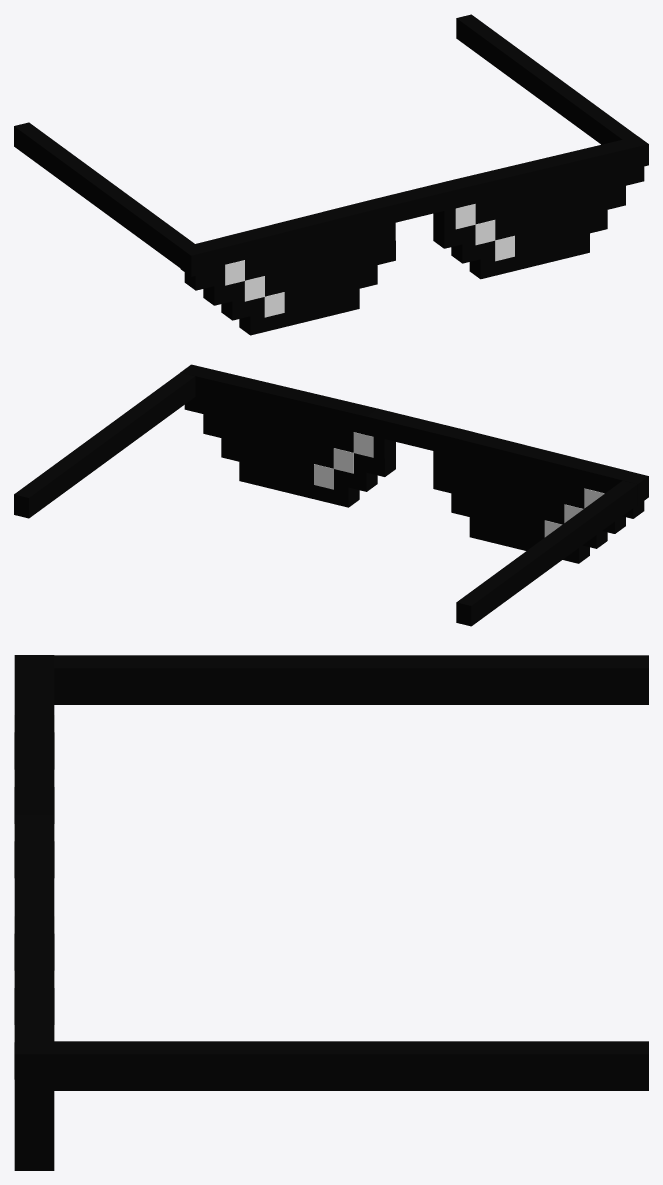
The model's file is thug_life_glasses_big.glb.
3 views of the same model, one above another, from view 1: azimuth 30°, elevation 25°; view 2: azimuth 150°, elevation 25°; view 3: azimuth 270°, elevation 25° (orthographic). The views are drawn at different scales.
Visible parts, largest first — view 1: ThugGlasses; view 2: ThugGlasses; view 3: ThugGlasses.
Boxes of the visible parts, <box> form: ThugGlasses: <box>14,14,648,335</box>; ThugGlasses: <box>14,364,648,626</box>; ThugGlasses: <box>14,655,648,1170</box>.
Size of the model in its own units: 1.72 by 0.3437 by 1.16.
Materials: 7 (7 with a texture image).
